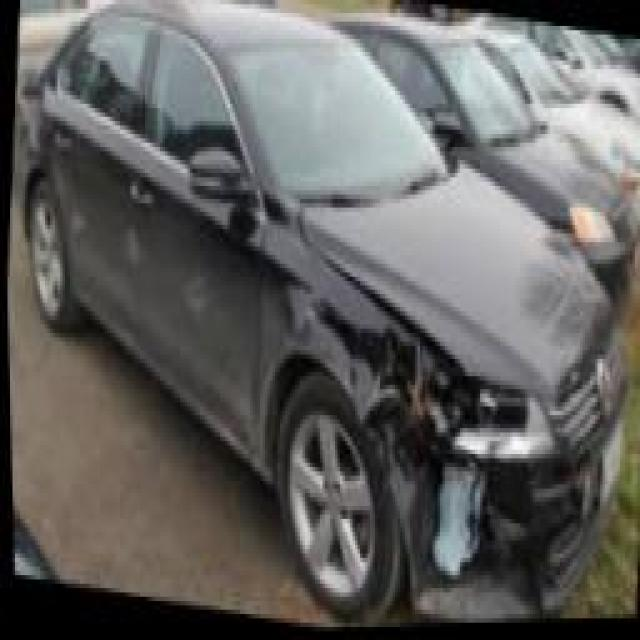Bonnet: (289, 209, 555, 411)
Bumper: (361, 401, 610, 625)
Light: (367, 337, 552, 468)
